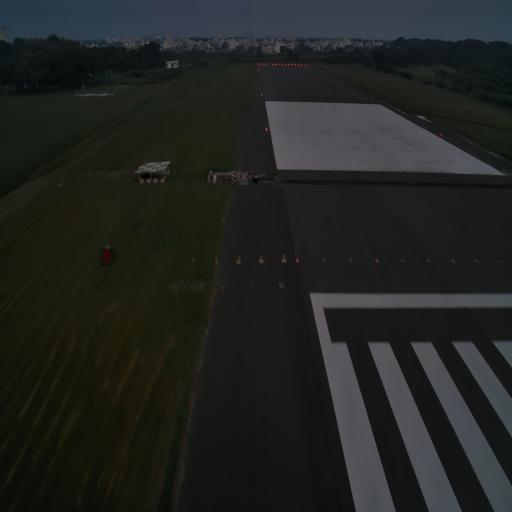off: (321, 253, 327, 268), (475, 256, 482, 265), (400, 255, 406, 265), (426, 254, 430, 268), (499, 257, 505, 266), (348, 254, 352, 265)
on: (280, 248, 287, 268), (235, 253, 242, 269), (258, 254, 265, 270), (294, 254, 301, 268), (214, 252, 220, 267), (374, 255, 380, 266), (449, 256, 455, 264)
